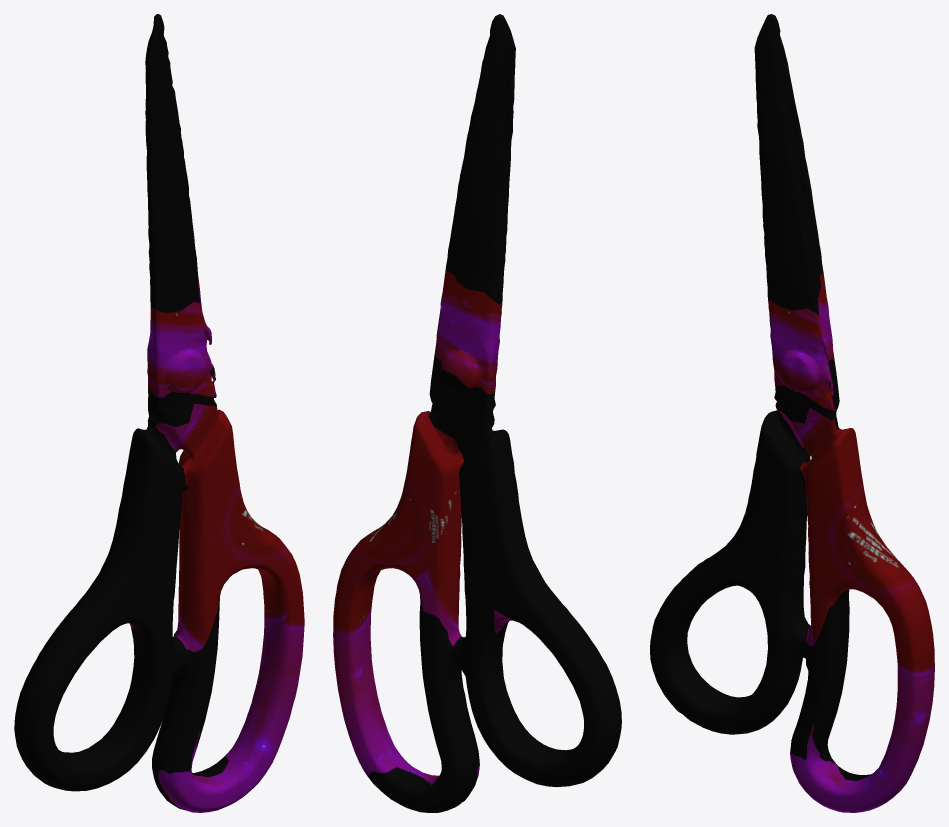
3 renders of one model, left to right at view 1: azimuth 30°, elevation 25°; view 2: azimuth 150°, elevation 25°; view 3: azimuth 330°, elevation 25°, orthographic. The views are drawn at different scales.
Visible parts, largest first — view 1: model.017; view 2: model.017; view 3: model.017.
Part boxes in pixels (x1=…): model.017: x1=14, y1=14, x2=304, y2=812; model.017: x1=333, y1=14, x2=621, y2=812; model.017: x1=650, y1=14, x2=934, y2=812.
Size of the model in its own units: 0.0782 by 0.2153 by 0.0146.
